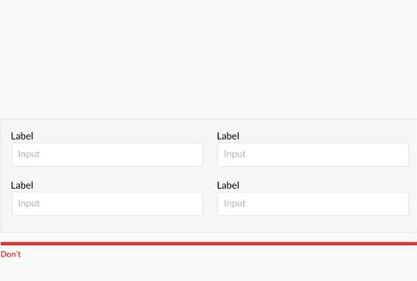field: (213, 138, 411, 170), (10, 139, 206, 170), (214, 189, 411, 219), (10, 189, 204, 217)
field_with_label: (214, 129, 415, 173), (211, 179, 414, 222), (6, 129, 209, 171), (7, 178, 206, 220)
